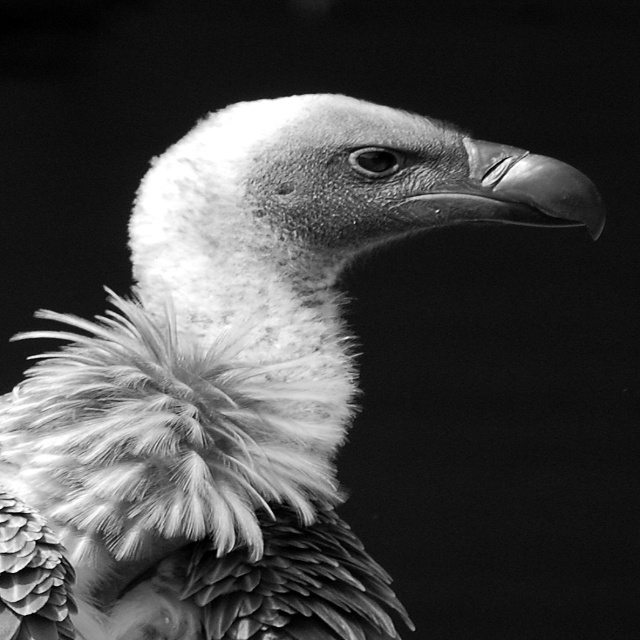Eagle: (0, 92, 604, 639)
